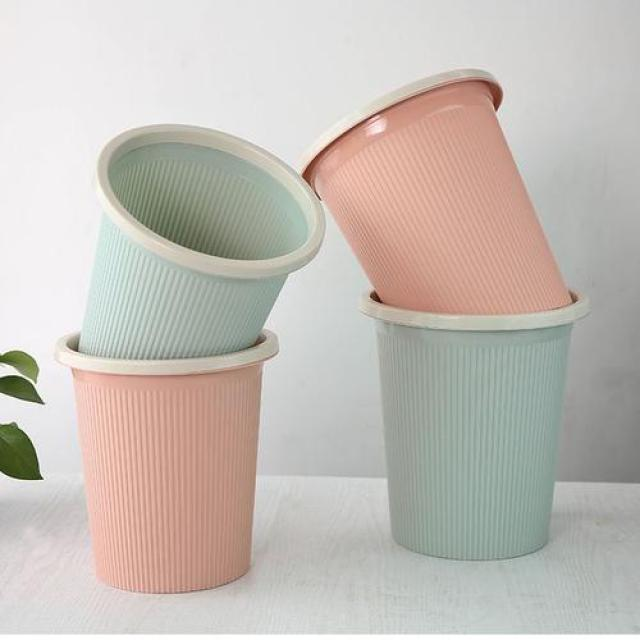dustbin: (304, 63, 580, 310), (360, 286, 588, 568), (53, 328, 284, 596), (78, 118, 327, 358)
